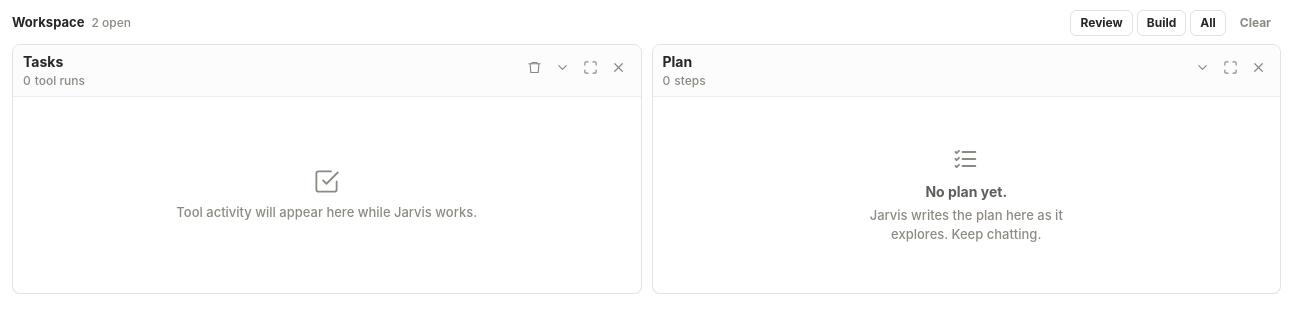
Scenario: AppWorkspaceRail › can focus one open panel and return to the stacked layout
Expected: the heading "Tasks" is shown, [23,53,63,70]
Expected: the heading "Plan" is shown, [662,53,692,70]
Click the button named "Focus Tasks" at (590, 67), box [578,54,604,80]
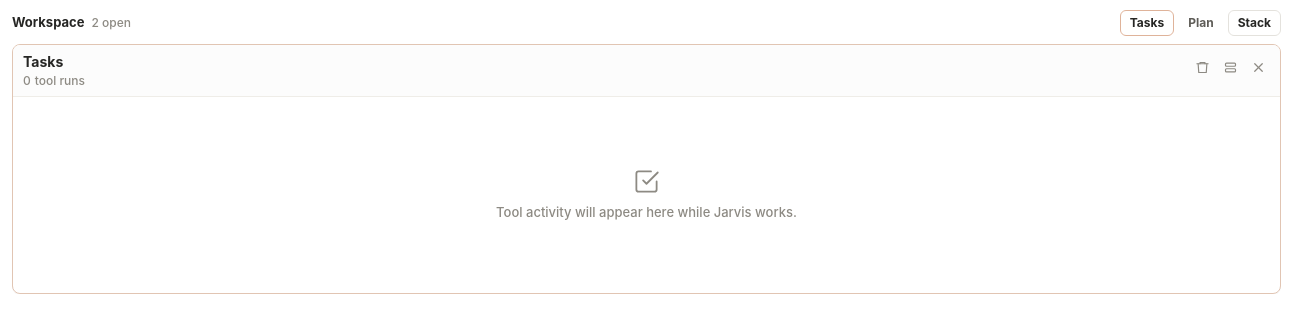
Expected: the heading "Tasks" is shown, [23,53,63,70]
Click the button "Stack" at (1254, 23), box [1228,10,1281,36]
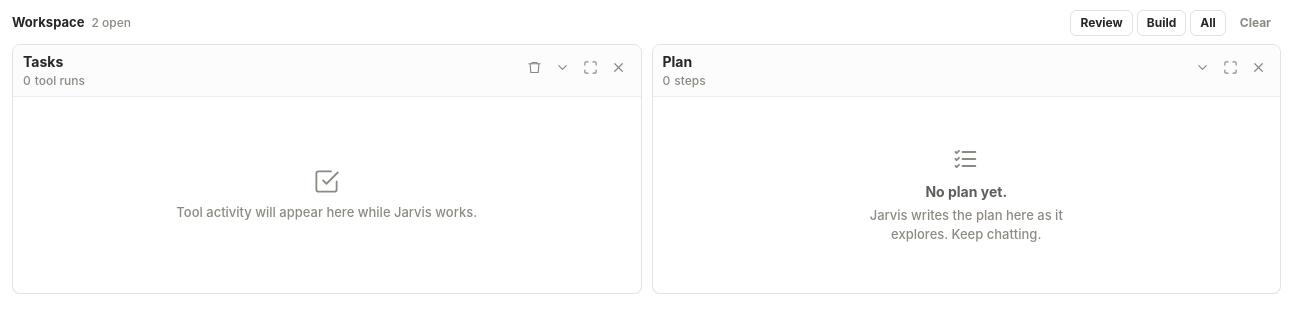
Expected: the heading "Tasks" is shown, [23,53,63,70]
Now the heading "Plan" is shown, box [662,53,692,70]
